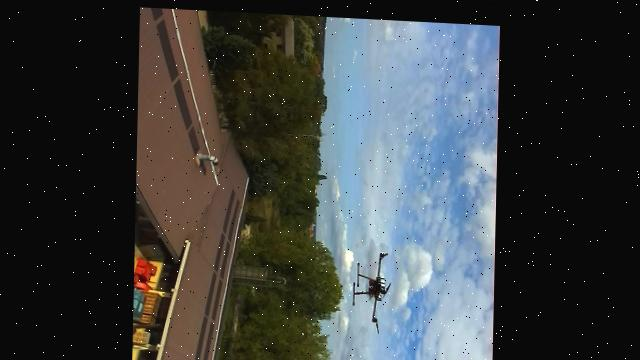drone: (322, 230, 433, 341)
